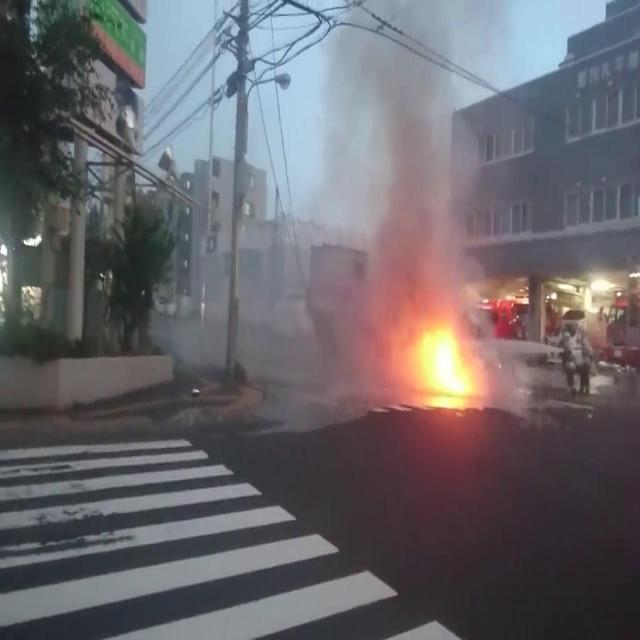fire: (401, 287, 487, 400)
